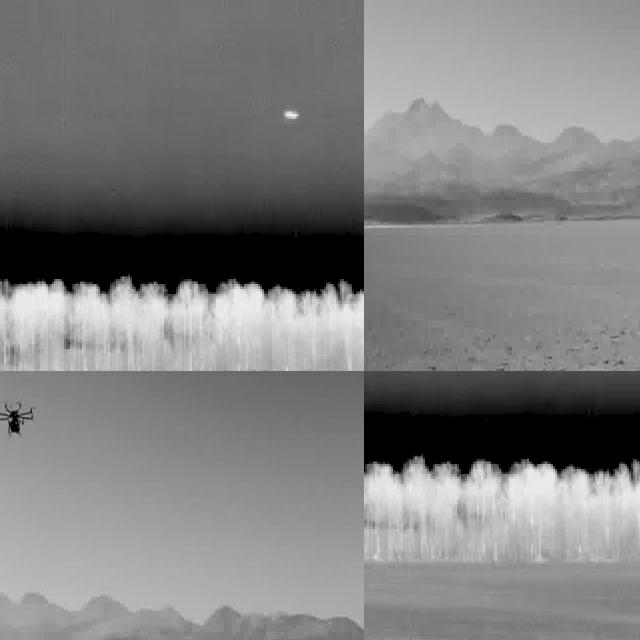1: (271, 103, 307, 133)
drone: (0, 388, 36, 445)
